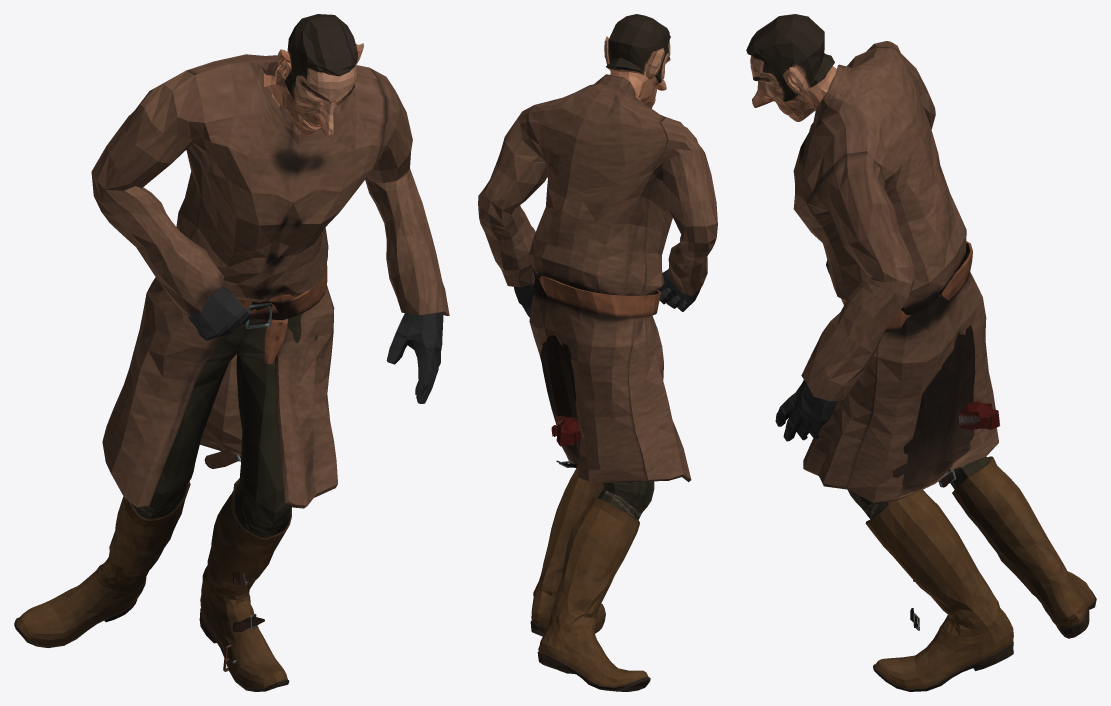
Rendered from sniper01_000025.obj.
3 renders of one model, left to right at view 1: azimuth 30°, elevation 25°; view 2: azimuth 150°, elevation 25°; view 3: azimuth 270°, elevation 25°, orthographic. The views are drawn at different scales.
Visible parts, largest first — view 1: Tops, Shoes, Bottoms, BodyParts; view 2: Tops, Shoes, BodyParts, Bottoms; view 3: Tops, Shoes, BodyParts, Bottoms.
Boxes of the visible parts, left/top/right/bottom form: Tops: left=91, top=54, right=449, bottom=663; Shoes: left=14, top=478, right=291, bottom=691; Bottoms: left=132, top=294, right=317, bottom=671; BodyParts: left=187, top=14, right=443, bottom=403; Tops: left=478, top=74, right=717, bottom=482; Shoes: left=530, top=468, right=650, bottom=691; BodyParts: left=514, top=14, right=700, bottom=446; Bottoms: left=598, top=481, right=654, bottom=519; Tops: left=793, top=41, right=998, bottom=630; Shoes: left=865, top=456, right=1096, bottom=691; BodyParts: left=746, top=14, right=1000, bottom=441; Bottoms: left=848, top=456, right=989, bottom=519.
Bounding box in the file's own units: 1.09 × 2.43 × 1.16.
